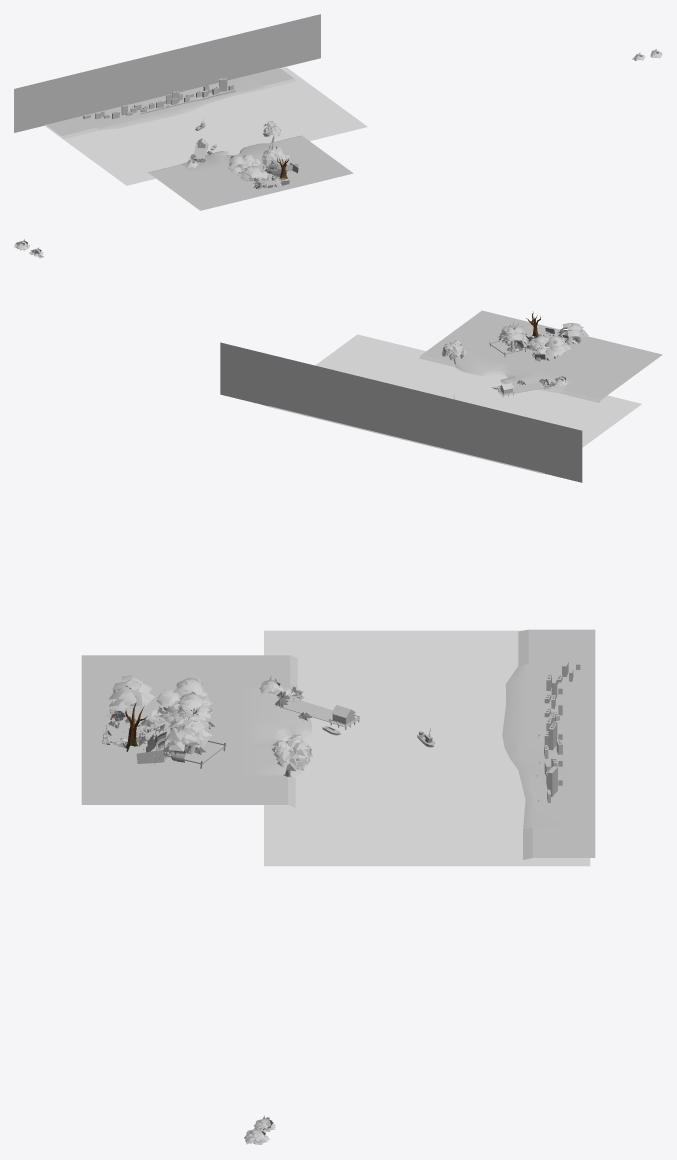
Rendered from HuBian_01.FBX.
3 views of the same model, one above another, from view 1: azimuth 30°, elevation 25°; view 2: azimuth 150°, elevation 25°; view 3: azimuth 270°, elevation 25° (orthographic). The views are drawn at different scales.
Visible parts, largest first — view 1: HuBian_01_changjing_01, Plane001, Object007, HuBian_01_zhiwutouming_01, Object003, HuBian_01_changjing_02; view 2: HuBian_01_changjing_01, Plane001, Object007, Object003, HuBian_01_zhiwutouming_01, HuBian_01_changjing_02; view 3: Plane001, Object007, HuBian_01_changjing_01, HuBian_01_zhiwutouming_01, Object003, HuBian_01_changjing_02, Object008.
Part boxes in pixels (x1,y1,x2,y2): HuBian_01_changjing_01: (14,14,320,183); Plane001: (45,67,367,185); Object007: (148,135,353,210); HuBian_01_zhiwutouming_01: (186,146,298,188); Object003: (228,121,281,173); HuBian_01_changjing_02: (194,128,279,186); HuBian_01_changjing_01: (220,340,582,482); Plane001: (261,334,641,474); Object007: (419,310,662,402); Object003: (442,336,570,359); HuBian_01_zhiwutouming_01: (498,325,570,389); HuBian_01_changjing_02: (453,322,568,397); Plane001: (264,630,590,866); Object007: (81,655,312,807); HuBian_01_changjing_01: (122,629,595,859); HuBian_01_zhiwutouming_01: (103,676,311,765); Object003: (156,677,312,771); HuBian_01_changjing_02: (115,699,359,777); Object008: (108,675,154,711).
Bounding box in the file's own units: 51143 × 4135 × 20170.
